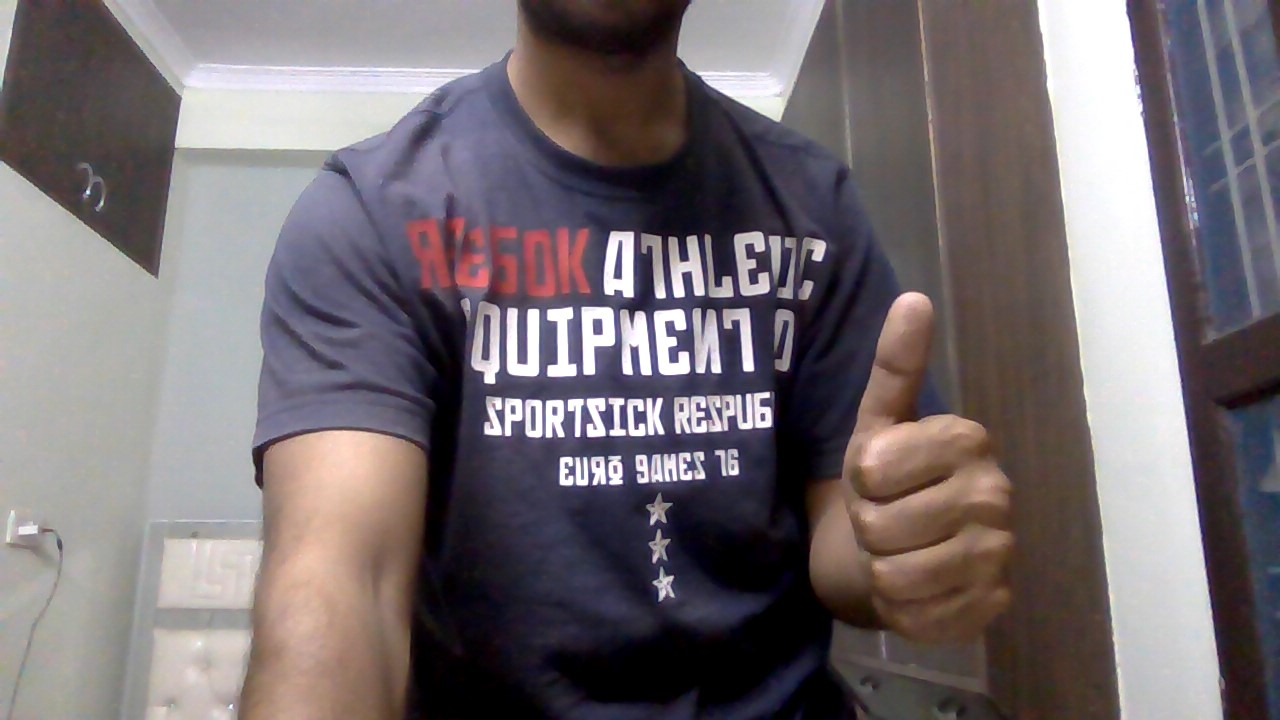Save: (834, 284, 1037, 657)
